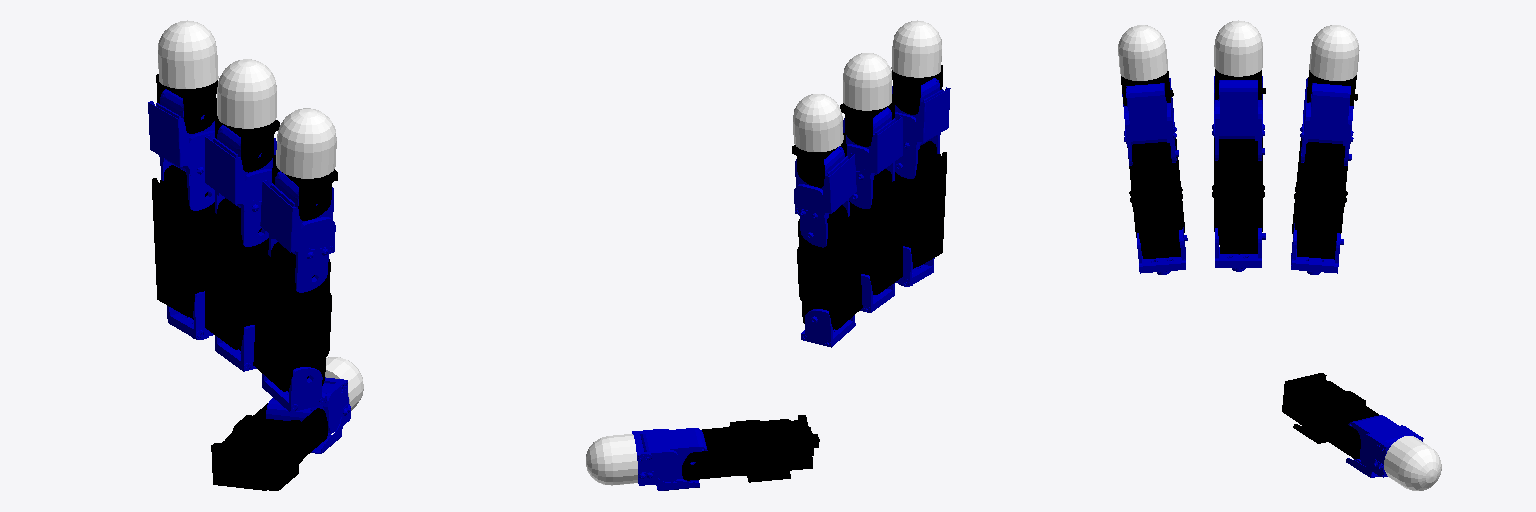
URDF robot description (allegro_hand):
<?xml version="1.0"?>
<robot name="allegro_hand">

  <material name="blue">
    <color rgba="0 0 0.8 1"/>
  </material>
  <material name="black">
    <color rgba="0 0 0 1"/>
  </material>
  <material name="white">
    <color rgba="1 1 1 1"/>
  </material>

  <link name="base_link">
    <visual>
      <geometry>
        <mesh filename="package://urdf_allegro/meshes/40_10_link_g.stl"/>
      </geometry>
    </visual>
    <collision>
      <geometry>
        <mesh filename="package://urdf_allegro/meshes/40_10_link_g.stl"/>
      </geometry>
    </collision>
    <inertial>
      <mass value="4.1685782e+02"/>
      <inertia ixx="1.1139612e+11" ixy="-9.2906454e+10" ixz="7.3970369e+09" 
      iyx= "-9.2906454e+10" iyy="4.6122500e+11" iyz="4.9169085e+09" 
      izx = "7.3970369e+09" izy = "4.9169085e+09" izz="5.7081991e+11"/>
    </inertial>
  </link>
  <!--Middle FInger-->
  <link name="mf1">
    <visual>
      <geometry>
        <mesh filename="package://urdf_allegro/meshes/40_10_link_f1.stl"/>
      </geometry>
      <material name="blue"/>
      <origin xyz ="0 0 0.0166 "/>
    </visual>
    <collision>
      <geometry>
        <mesh filename="package://urdf_allegro/meshes/40_10_link_f1.stl"/>
      </geometry>
      <origin xyz ="0 0 0.0166 "/>
    </collision>
    <inertial>
      <mass value="1.1350110e+01" />
      <inertia ixx=" 2.7007029e+03" ixy="3.1772169e+00" ixz="-9.9625685e+00" 
      iyx= "3.1772169e+00" iyy=" 2.0578543e+03" iyz="4.1823243e+00" 
      izx = "-9.9625685e+00" izy = "4.1823243e+00" izz=" 1.2713693e+03"/>
    </inertial>
  </link>
  <joint name="mf1" type="revolute">
    <parent link="base_link"/>
    <child link="mf1"/>
    <axis xyz="0 0 1"/>
    <origin xyz = "0 0 0"/>
    <limit lower="-0.57" upper="0.57" effort="10" velocity="3"/>
  </joint> 

  <link name="mf2">
    <visual>
      <geometry>
        <mesh filename="package://urdf_allegro/meshes/40_10_link_f2.stl"/>
      </geometry>
      <material name="black"/>
      <origin rpy = "-1.5708 -1.5708 0" xyz ="0 0 0 "/>
    </visual>
    <collision>
      <geometry>
        <mesh filename="package://urdf_allegro/meshes/40_10_link_f2.stl" />
      </geometry>
      <origin rpy = "-1.5708 -1.5708 0" xyz ="0 0 0 "/>
    </collision>
    <inertial>
      <mass value="7.1189096e+01" />
      <inertia ixx="1.0469372e+11" ixy="-4.2436168e+10" ixz="-1.8101962e+10" 
      iyx= "-4.2436168e+10" iyy="6.1027234e+11" iyz="3.7248539e+09" 
      izx = " -1.8101962e+10" izy = "3.7248539e+09" izz=" 5.7968823e+11"/>
    </inertial>
  </link>

  <joint name="mf2" type="revolute">
    <parent link="mf1"/>
    <child link="mf2"/>
    <origin xyz= "0 0 0.0166"/>
    <limit lower="-0.296" upper=" 1.71" effort="10" velocity="3"/>
    <axis xyz="0 1 0"/>
  </joint> 

  <link name="mf3">
    <visual>
      <geometry>
        <mesh filename="package://urdf_allegro/meshes/40_10_link_f3.stl"/>
      </geometry>
      <material name="blue"/>
      <origin rpy = "-1.5708 0 0" xyz ="0 0 0 "/>
    </visual>
    <collision>
      <geometry>
        <mesh filename="package://urdf_allegro/meshes/40_10_link_f3.stl" />
      </geometry>
      <origin rpy = "-1.5708 0 0" xyz ="0 0 0 "/>
    </collision>
    <inertial>
      <mass value="3.7588606e+01" />
      <inertia ixx="  4.6626681e+10" ixy="-4.6540270e+10" ixz="2.8462066e+09" 
      iyx= " -4.6540270e+10" iyy=" 1.5452396e+11" iyz="1.2914215e+09" 
      izx = " 2.8462066e+09" izy = "1.2914215e+09" izz="1.6359427e+11"/>
    </inertial>
  </link>

  <joint name="mf3" type="revolute">
    <parent link="mf2"/>
    <child link="mf3"/>
    <origin xyz= "0 0 0.054" rpy = "0 -1.5708 0"/>
    <limit lower="-0.274" upper=" 1.809" effort="10" velocity="3"/>
    <axis xyz="0 1 0"/>
  </joint> 

  <link name="mf4">
    <visual>
      <geometry>
        <mesh filename="package://urdf_allegro/meshes/40_10_link_f4.stl"/>
      </geometry>
      <material name="black"/>
      <origin rpy = "-1.5708 0 0" xyz ="0 0 0 "/>
    </visual>
    <collision>
      <geometry>
        <mesh filename="package://urdf_allegro/meshes/40_10_link_f4.stl" />
      </geometry>
      <origin rpy = "-1.5708 0 0" xyz ="0 0 0 "/>
    </collision>
    <inertial>
      <mass value="9.4301124e+00" />
      <inertia ixx=" 1.2117405e+03" ixy="9.9624823e+00" ixz="6.9119137e-01" 
      iyx= "9.9624823e+00" iyy="  2.1794983e+03" iyz="3.1772815e+00" 
      izx = "6.9119137e-01" izy = "3.1772815e+00" izz=" 1.5590472e+03"/>
    </inertial>
  </link>

  <joint name="mf4" type="revolute">
    <parent link="mf3"/>
    <child link="mf4"/>
    <origin xyz= "0.0384 0 0" rpy = "0 0 0"/>
    <limit lower="-0.327" upper="1.718" effort="10" velocity="3"/>
    <axis xyz="0 1 0"/>
  </joint> 

<link name="mf5">
    <visual>
      <geometry>
        <mesh filename="package://urdf_allegro/meshes/40_10_link_f5.stl"/>
      </geometry>
      <material name="white"/>
      <origin rpy = "-1.5708 0 0" xyz ="0 0 0 "/>
    </visual>
    <collision>
      <geometry>
        <mesh filename="package://urdf_allegro/meshes/40_10_link_f5.stl" />
      </geometry>
      <origin rpy = "-1.5708 0 0" xyz ="0 0 0 "/>
    </collision>
    <inertial>
      <mass value="1.6654268e+01" />
      <inertia ixx=" 7.2993680e+01" ixy=" 0.0000000e+00" ixz="0.0000000e+00" 
      iyx= "0.0000000e+00" iyy= "1.1760891e+02" iyz="0.0000000e+00" 
      izx = "0.0000000e+00" izy = "0.0000000e+00" izz="1.0967651e+02"/>
    </inertial>
  </link>

  <joint name="mf5" type="fixed">
    <parent link="mf4"/>
    <child link="mf5"/>
    <origin xyz= "0.0157 0 0"/>
  </joint> 

<!--Pinky Finger-->
  <link name="pf1">
    <visual>
      <geometry>
        <mesh filename="package://urdf_allegro/meshes/40_10_link_f1.stl"/>
      </geometry>
      <material name="blue"/>
    </visual>
    <collision>
      <geometry>
        <mesh filename="package://urdf_allegro/meshes/40_10_link_f1.stl"/>
      </geometry>
    </collision>
    <inertial>
      <mass value="1.1350110e+01" />
      <inertia ixx=" 2.7007029e+03" ixy="3.1772169e+00" ixz="-9.9625685e+00" 
      iyx= "3.1772169e+00" iyy=" 2.0578543e+03" iyz="4.1823243e+00" 
      izx = "-9.9625685e+00" izy = "4.1823243e+00" izz=" 1.2713693e+03"/>
    </inertial>
  </link>
  <joint name="pf1" type="revolute">
    <parent link="base_link"/>
    <child link="pf1"/>
    <axis xyz="0 0 1"/>
    <origin rpy = "0.0872665 0 0" xyz ="0 -0.045098 0.014293 "/>
    <limit lower="-0.57" upper="0.57" effort="10" velocity="3"/>
  </joint>

  <link name="pf2">
    <visual>
      <geometry>
        <mesh filename="package://urdf_allegro/meshes/40_10_link_f2.stl"/>
      </geometry>
      <material name="black"/>
      <origin rpy = " -1.5708  -1.5708 0" xyz ="0 0 0 "/>
    </visual>
    <collision>
      <geometry>
        <mesh filename="package://urdf_allegro/meshes/40_10_link_f2.stl" />
      </geometry>
      <origin rpy = " -1.5708  -1.5708 0" xyz ="0 0 0 "/>
    </collision>
  </link>
  <joint name="pf2" type="revolute">
    <parent link="pf1"/>
    <child link="pf2"/>
    <origin rpy = "0 0 0" xyz ="0 0 0 "/>
    <limit lower="-0.296" upper="1.71" effort="10" velocity="3"/>
    <axis xyz="0 1 0"/>
  </joint> 
  

  <link name="pf3">
    <visual>
      <geometry>
        <mesh filename="package://urdf_allegro/meshes/40_10_link_f3.stl"/>
      </geometry>
      <material name="blue"/>
      <origin rpy = "-1.5708 0 0" xyz ="0 0 0 "/>
    </visual>
    <collision>
      <geometry>
        <mesh filename="package://urdf_allegro/meshes/40_10_link_f3.stl" />
      </geometry>
      <origin rpy = "-1.5708 0 0" xyz ="0 0 0 "/>
    </collision>
    <inertial>
      <mass value="3.7588606e+01" />
      <inertia ixx="  4.6626681e+10" ixy="-4.6540270e+10" ixz="2.8462066e+09" 
      iyx= " -4.6540270e+10" iyy=" 1.5452396e+11" iyz="1.2914215e+09" 
      izx = " 2.8462066e+09" izy = "1.2914215e+09" izz="1.6359427e+11"/>
    </inertial>
  </link>

  <joint name="pf3" type="revolute">
    <parent link="pf2"/>
    <child link="pf3"/>
    <origin xyz= "0 0 0.054" rpy = "0 -1.5708 0"/>
    <limit lower="-0.274" upper="1.809" effort="10" velocity="3"/>
    <axis xyz="0 1 0"/>
  </joint> 

  <link name="pf4">
    <visual>
      <geometry>
        <mesh filename="package://urdf_allegro/meshes/40_10_link_f4.stl"/>
      </geometry>
      <material name="black"/>
      <origin rpy = "-1.5708 0 0" xyz ="0 0 0 "/>
    </visual>
    <collision>
      <geometry>
        <mesh filename="package://urdf_allegro/meshes/40_10_link_f4.stl" />
      </geometry>
      <origin rpy = "-1.5708 0 0" xyz ="0 0 0 "/>
    </collision>
    <inertial>
      <mass value="9.4301124e+00" />
      <inertia ixx=" 1.2117405e+03" ixy="9.9624823e+00" ixz="6.9119137e-01" 
      iyx= "9.9624823e+00" iyy="  2.1794983e+03" iyz="3.1772815e+00" 
      izx = "6.9119137e-01" izy = "3.1772815e+00" izz=" 1.5590472e+03"/>
    </inertial>
  </link>

  <joint name="pf4" type="revolute">
    <parent link="pf3"/>
    <child link="pf4"/>
    <origin xyz= "0.0384 0 0"/>
     <limit lower="-0.327" upper="1.718" effort="10" velocity="3"/>
    <axis xyz="0 1 0"/>
  </joint> 

  <link name="pf5">
    <visual>
      <geometry>
        <mesh filename="package://urdf_allegro/meshes/40_10_link_f5.stl"/>
      </geometry>
      <material name="white"/>
      <origin rpy = "-1.5708 0 0" xyz ="0 0 0 "/>
    </visual>
    <collision>
      <geometry>
        <mesh filename="package://urdf_allegro/meshes/40_10_link_f5.stl" />
      </geometry>
      <origin rpy = "-1.5708 0 0" xyz ="0 0 0 "/>
    </collision>
    <inertial>
      <mass value="1.6654268e+01" />
      <inertia ixx=" 7.2993680e+01" ixy=" 0.0000000e+00" ixz="0.0000000e+00" 
      iyx= "0.0000000e+00" iyy= "1.1760891e+02" iyz="0.0000000e+00" 
      izx = "0.0000000e+00" izy = "0.0000000e+00" izz="1.0967651e+02"/>
    </inertial>
  </link>

  <joint name="pf5" type="fixed">
    <parent link="pf4"/>
    <child link="pf5"/>
    <origin xyz= "0.0157 0 0"/>
  </joint> 
<!--Index FInger-->

<link name="if1">
    <visual>
      <geometry>
        <mesh filename="package://urdf_allegro/meshes/40_10_link_f1.stl"/>
      </geometry>
      <material name="blue"/>
    </visual>
    <collision>
      <geometry>
        <mesh filename="package://urdf_allegro/meshes/40_10_link_f1.stl"/>
      </geometry>
    </collision>
    <inertial>
      <mass value="1.1350110e+01" />
      <inertia ixx=" 2.7007029e+03" ixy="3.1772169e+00" ixz="-9.9625685e+00" 
      iyx= "3.1772169e+00" iyy=" 2.0578543e+03" iyz="4.1823243e+00" 
      izx = "-9.9625685e+00" izy = "4.1823243e+00" izz=" 1.2713693e+03"/>
    </inertial>
  </link>
  <joint name="if1" type="revolute">
    <parent link="base_link"/>
    <child link="if1"/>
    <axis xyz="0 0 1"/>
    <origin rpy = "-0.0872665 0 0" xyz ="0 0.045098 0.014293 "/>
    <limit lower="-0.57" upper="0.57" effort="10" velocity="3"/>
  </joint>

<link name="if2">
    <visual>
      <geometry>
        <mesh filename="package://urdf_allegro/meshes/40_10_link_f2.stl"/>
      </geometry>
      <material name="black"/>
      <origin rpy = " -1.5708  -1.5708 0" xyz ="0 0 0 "/>
    </visual>
    <collision>
      <geometry>
        <mesh filename="package://urdf_allegro/meshes/40_10_link_f2.stl" />
      </geometry>
      <origin rpy = " -1.5708  -1.5708 0" xyz ="0 0 0 "/>
    </collision>
  </link>
  <joint name="if2" type="revolute">
    <parent link="if1"/>
    <child link="if2"/>
    <origin rpy = "0 0 0" xyz ="0 0 0 "/>
    <limit lower="-0.296" upper="1.71" effort="10" velocity="3"/>
    <axis xyz="0 1 0"/>
  </joint>

  <link name="if3">
    <visual>
      <geometry>
        <mesh filename="package://urdf_allegro/meshes/40_10_link_f3.stl"/>
      </geometry>
      <material name="blue"/>
      <origin rpy = "-1.5708 0 0" xyz ="0 0 0 "/>
    </visual>
    <collision>
      <geometry>
        <mesh filename="package://urdf_allegro/meshes/40_10_link_f3.stl" />
      </geometry>
      <origin rpy = "-1.5708 0 0" xyz ="0 0 0 "/>
    </collision>
    <inertial>
      <mass value="3.7588606e+01" />
      <inertia ixx="  4.6626681e+10" ixy="-4.6540270e+10" ixz="2.8462066e+09" 
      iyx= " -4.6540270e+10" iyy=" 1.5452396e+11" iyz="1.2914215e+09" 
      izx = " 2.8462066e+09" izy = "1.2914215e+09" izz="1.6359427e+11"/>
    </inertial>
  </link>

  <joint name="if3" type="revolute">
    <parent link="if2"/>
    <child link="if3"/>
    <origin xyz= "0 0 0.054" rpy = "0 -1.5708 0"/>
    <limit lower="-0.274" upper="1.809" effort="10" velocity="3"/>
    <axis xyz="0 1 0"/>
  </joint> 


  <link name="if4">
    <visual>
      <geometry>
        <mesh filename="package://urdf_allegro/meshes/40_10_link_f4.stl"/>
      </geometry>
      <material name="black"/>
      <origin rpy = "-1.5708 0 0" xyz ="0 0 0 "/>
    </visual>
    <collision>
      <geometry>
        <mesh filename="package://urdf_allegro/meshes/40_10_link_f4.stl" />
      </geometry>
      <origin rpy = "-1.5708 0 0" xyz ="0 0 0 "/>
    </collision>
    <inertial>
      <mass value="9.4301124e+00" />
      <inertia ixx=" 1.2117405e+03" ixy="9.9624823e+00" ixz="6.9119137e-01" 
      iyx= "9.9624823e+00" iyy="  2.1794983e+03" iyz="3.1772815e+00" 
      izx = "6.9119137e-01" izy = "3.1772815e+00" izz=" 1.5590472e+03"/>
    </inertial>
  </link>

  <joint name="if4" type="revolute">
    <parent link="if3"/>
    <child link="if4"/>
    <origin xyz= "0.0384 0 0"/>
     <limit lower="-0.327" upper="1.718" effort="10" velocity="3"/>
    <axis xyz="0 1 0"/>
  </joint>


  <link name="if5">
    <visual>
      <geometry>
        <mesh filename="package://urdf_allegro/meshes/40_10_link_f5.stl"/>
      </geometry>
      <material name="white"/>
      <origin rpy = "-1.5708 0 0" xyz ="0 0 0 "/>
    </visual>
    <collision>
      <geometry>
        <mesh filename="package://urdf_allegro/meshes/40_10_link_f5.stl" />
      </geometry>
      <origin rpy = "-1.5708 0 0" xyz ="0 0 0 "/>
    </collision>
    <inertial>
      <mass value="1.6654268e+01" />
      <inertia ixx=" 7.2993680e+01" ixy=" 0.0000000e+00" ixz="0.0000000e+00" 
      iyx= "0.0000000e+00" iyy= "1.1760891e+02" iyz="0.0000000e+00" 
      izx = "0.0000000e+00" izy = "0.0000000e+00" izz="1.0967651e+02"/>
    </inertial>
  </link>

  <joint name="if5" type="fixed">
    <parent link="if4"/>
    <child link="if5"/>
    <origin xyz= "0.0157 0 0"/>
  </joint>




<!--Thumb-->
  <link name="th1">
    <visual>
      <geometry>
        <mesh filename="package://urdf_allegro/meshes/40_10_link_t1.stl" scale = "0.001 0.001 0.001"/>
        <!-- <origin xyz ="-0.0182 0.016958 -0.073288 " /> -->
      </geometry>
      <material name="blue"/>
    </visual>
    <collision>
      <geometry>
        <mesh filename="package://urdf_allegro/meshes/40_10_link_t1.stl"/>
      </geometry>
    </collision>
    <inertial>
      <mass value="7.9809876e-02" />
      <inertia ixx="1.1585993e+08" ixy=" -1.2877480e+06" ixz="-4.6980813e+07" 
      iyx= "-1.2877480e+06" iyy=" 1.4364829e+08" iyz="-2.8936529e+06" 
      izx = "-4.6980813e+07" izy = "-2.8936529e+06" izz=" 2.8012673e+07"/>
    </inertial>
  </link>

  <joint name="th1" type="revolute">
    <parent link="base_link"/>
    <child link="th1"/>
    <limit lower="0.36357" upper="1.4968" effort="10" velocity="3"/>
    <axis xyz="0 0 -1"/>
    <origin rpy = "-0.0872665 0 0" xyz ="-0.0182 0.016958 -0.073288 " />
  </joint>


  <link name="th2">
    <visual>
      <geometry>
        <mesh filename="package://urdf_allegro/meshes/40_10_link_t2.stl" scale = "0.001 0.001 0.001"/>
      </geometry>
      <material name="black"/>
      <origin rpy = " -1.5708 -1.5708 0" xyz ="0 0 0 "/>
    </visual>
    <collision>
      <geometry>
        <mesh filename="package://urdf_allegro/meshes/40_10_link_t2.stl" scale = "0.001 0.001 0.001"/>
      </geometry>
    </collision>
    <inertial>
      <mass value="1.1350110e-02" />
      <inertia ixx="2.7007029e+00" ixy=" 3.1772015e-03" ixz="-9.9625696e-03" 
      iyx= "3.1772015e-03" iyy="2.0578543e+00" iyz="4.1823243e-03" 
      izx = "-9.9625696e-03" izy = "4.1823243e-03" izz=" 1.2713693e+00"/>
    </inertial>
  </link>
  <joint name="th2" type="revolute">
    <parent link="th1"/>
    <child link="th2"/>
    <origin rpy = "0 0 0" xyz ="0.005 0.055189 0 "/>
    <limit lower="-0.20504289" upper="1.263" effort="10" velocity="3"/>
    <axis xyz="0 1 0"/>
    
  </joint>

  <link name="th3">
    <visual>
      <geometry>
        <mesh filename="package://urdf_allegro/meshes/40_10_link_t3.stl"/>
      </geometry>
      <material name="black"/>
      <origin rpy = " 0  0 -1.5708" xyz ="0 0 0 "/>
    </visual>
    <collision>
      <geometry>
        <mesh filename="package://urdf_allegro/meshes/40_10_link_t3.stl" />
      </geometry>
    </collision>
    <inertial>
      <mass value=" 4.0206693e-02" />
      <inertia ixx=" 2.7804865e+07" ixy="1.3945030e+06" ixz="0.0000000e+00" 
      iyx= " 1.3945030e+06" iyy="7.3569085e+07" iyz=" 1.7291527e+04" 
      izx = " 0.0000000e+00" izy = "1.7291527e+04" izz="6.3982627e+07"/>
    </inertial>
  </link>
  <joint name="th3" type="revolute">
    <parent link="th2"/>
    <child link="th3"/>
    <origin rpy = "0 0 0" xyz ="0 0 0 "/>
    <limit lower="-0.2897" upper="1.7440" effort="10" velocity="3"/>
    <axis xyz="1 0 0"/>
  </joint>

  <link name="th4">
    <visual>
      <geometry>
        <mesh filename="package://urdf_allegro/meshes/40_10_link_t4.stl"/>
      </geometry>
      <material name="blue"/>
      <origin rpy = " 0  0 -1.5708" xyz ="0 0 0 "/>
    </visual>
    <collision>
      <geometry>
        <mesh filename="package://urdf_allegro/meshes/40_10_link_t4.stl" />
      </geometry>
    </collision>
    <inertial>
      <mass value=" 4.0750131e-02" />
      <inertia ixx=" 2.7804864e+07" ixy=" 1.3945020e+06" ixz="0.0000000e+00" 
      iyx= "  1.3945020e+06" iyy="7.3569079e+07" iyz="1.7291521e+04" 
      izx = " 0.0000000e+00" izy = " 1.7291521e+04" izz="6.3982622e+07"/>
    </inertial>
  </link>
  <joint name="th4" type="revolute">
    <parent link="th3"/>
    <child link="th4"/>
    <origin rpy = "0 0 0" xyz ="0 0.051204 0 "/>
    <limit lower="-0.2622" upper="1.81991" effort="10" velocity="3"/>
    <axis xyz="1 0 0"/>
  </joint>

  <link name="th5">
    <visual>
      <geometry>
        <mesh filename="package://urdf_allegro/meshes/40_10_link_f5.stl"/>
      </geometry>
      <material name="white"/>
      <origin rpy = " 0  0 1.5708" xyz ="0 0 0 "/>
    </visual>
    <collision>
      <geometry>
        <mesh filename="package://urdf_allegro/meshes/40_10_link_f5.stl" />
      </geometry>
    </collision>
    <inertial>
      <mass value="1.6654268e+01" />
      <inertia ixx=" 7.2993680e+01" ixy=" 0.0000000e+00" ixz="0.0000000e+00" 
      iyx= "0.0000000e+00" iyy= "1.1760891e+02" iyz="0.0000000e+00" 
      izx = "0.0000000e+00" izy = "0.0000000e+00" izz="1.0967651e+02"/>
    </inertial>
  </link>
  <joint name="th5" type="fixed">
    <parent link="th4"/>
    <child link="th5"/>
    <origin rpy = "0 -1.4835335 0" xyz ="0 0.0313 0 "/>
    
  </joint>


</robot>

--- Facts derived from the render (not from the file) ---
Views: 3 orthographic renders of the robot side by side, from view 1: azimuth 30°, elevation 25°; view 2: azimuth 150°, elevation 25°; view 3: azimuth 270°, elevation 25°.
Robot: allegro_hand — 21 links, 20 joints (16 revolute, 4 fixed); root link base_link; default pose: all joints at 0 but 1 set to mid-range because 0 is outside their limits (th1 = 0.9302).
Links seen in each view (by area): view 1: pf2, mf2, if2, pf3, mf3, if3, th3, pf5, mf5, if5, th2, th4 (+7 smaller); view 2: if2, th3, mf2, pf2, if3, th4, mf3, pf3, if5, mf5, pf5, th5 (+7 smaller); view 3: if2, pf2, mf2, th3, if3, pf3, mf3, th5, mf5, if5, pf5, th4 (+4 smaller).
Boxes of the visible links, x1,y1,x2,y2 form: pf2: (253,242,331,391); mf2: (205,198,268,350); if2: (152,165,214,319); pf3: (260,171,335,292); mf3: (205,125,276,246); if3: (148,89,214,210); th3: (224,403,327,490); pf5: (276,108,336,178); mf5: (217,59,276,128); if5: (158,20,218,88); th2: (211,441,284,490); th4: (266,377,350,453); if2: (797,205,862,329); th3: (682,419,797,482); mf2: (849,169,902,294); pf2: (895,141,946,268); if3: (794,146,856,247); th4: (632,428,707,490); mf3: (843,107,902,208); pf3: (892,78,950,178); if5: (793,94,843,151); mf5: (843,53,891,110); pf5: (891,20,941,77); th5: (586,434,637,485); if2: (1292,138,1348,259); pf2: (1127,138,1184,258); mf2: (1212,138,1264,253); th3: (1293,381,1378,458); if3: (1300,78,1353,165); pf3: (1122,78,1178,165); mf3: (1212,76,1264,160); th5: (1384,436,1441,490); mf5: (1214,20,1262,76); if5: (1309,25,1359,80); pf5: (1118,25,1167,80); th4: (1346,415,1423,477).
Size in the robot's own frame: 0.1351 by 0.187 by 0.2479 metres.
19 mesh visuals loaded from 10 distinct referenced files (8 binary STL); not drawn: 2 (reference not matched to a file when rendering).